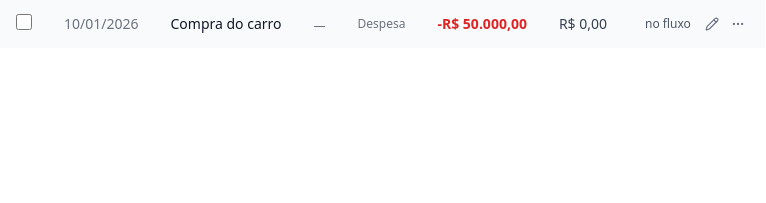
Test: botão desconciliar no lançamento › classificado pela regra mostra (desktop e mobile)
The width and height of the screenshot is (766, 203).
Step 1. Click the button named "Mais ações" → (738, 24), box [727, 13, 749, 35]
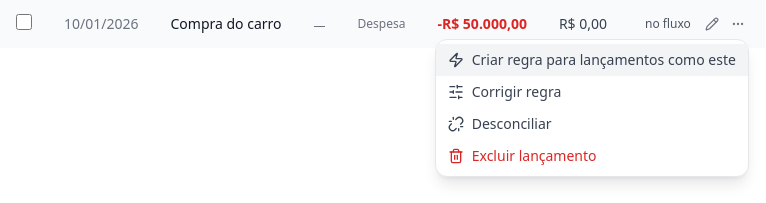
Expected: the menu item "Desconciliar" is shown, [436, 108, 748, 140]
